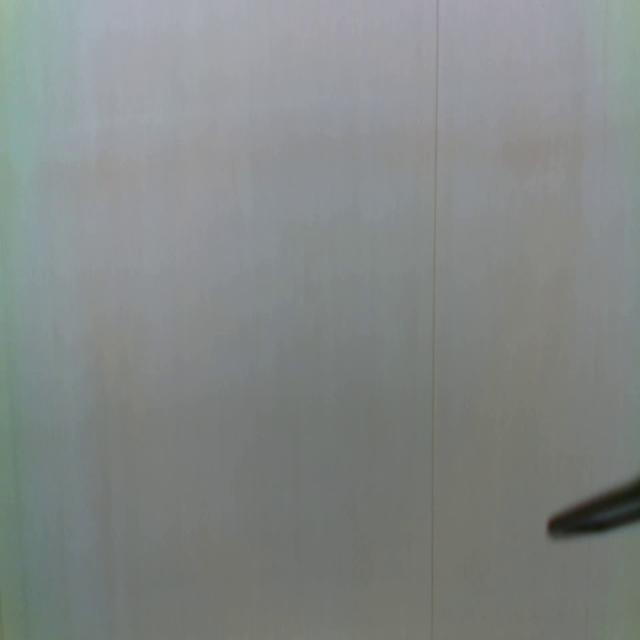crease: (428, 0, 444, 637)
